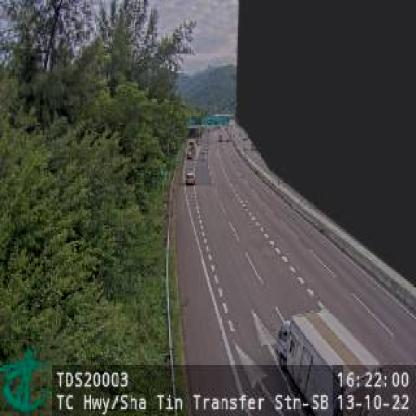Bus: (276, 310, 388, 416)
Car: (184, 170, 198, 186)
